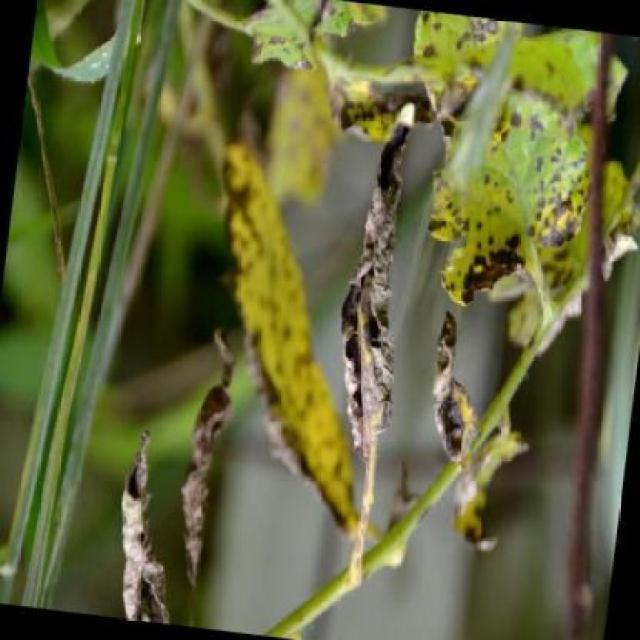Septoria leaf spot: (182, 152, 396, 536), (405, 21, 626, 322)
